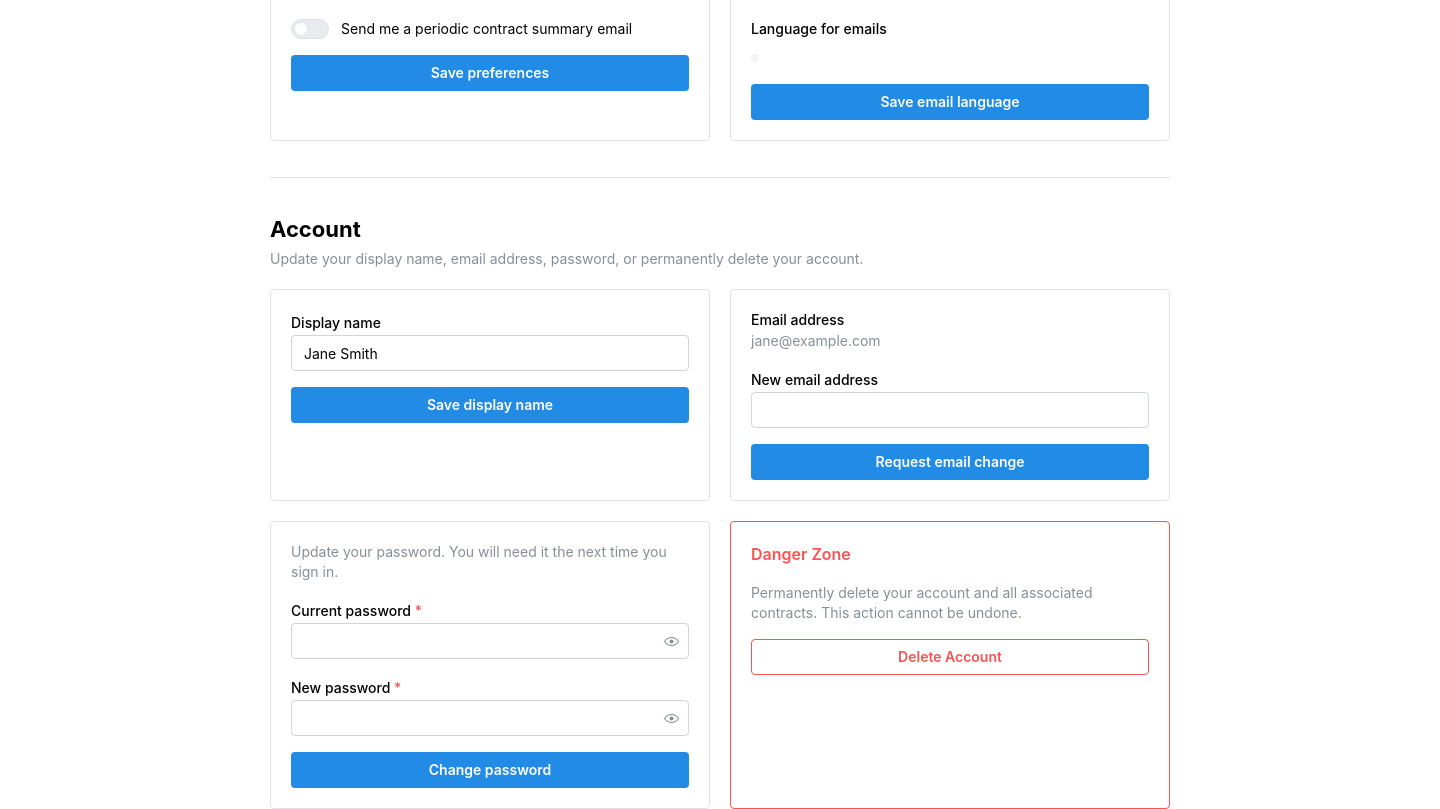
Test: AccountSettings – Password section › shows a success toast after changing password
The image size is (1440, 809).
(page scrolled)
Type "old-pass" into the password field labelled "Current password *" at (490,641), box [292,624,688,658]
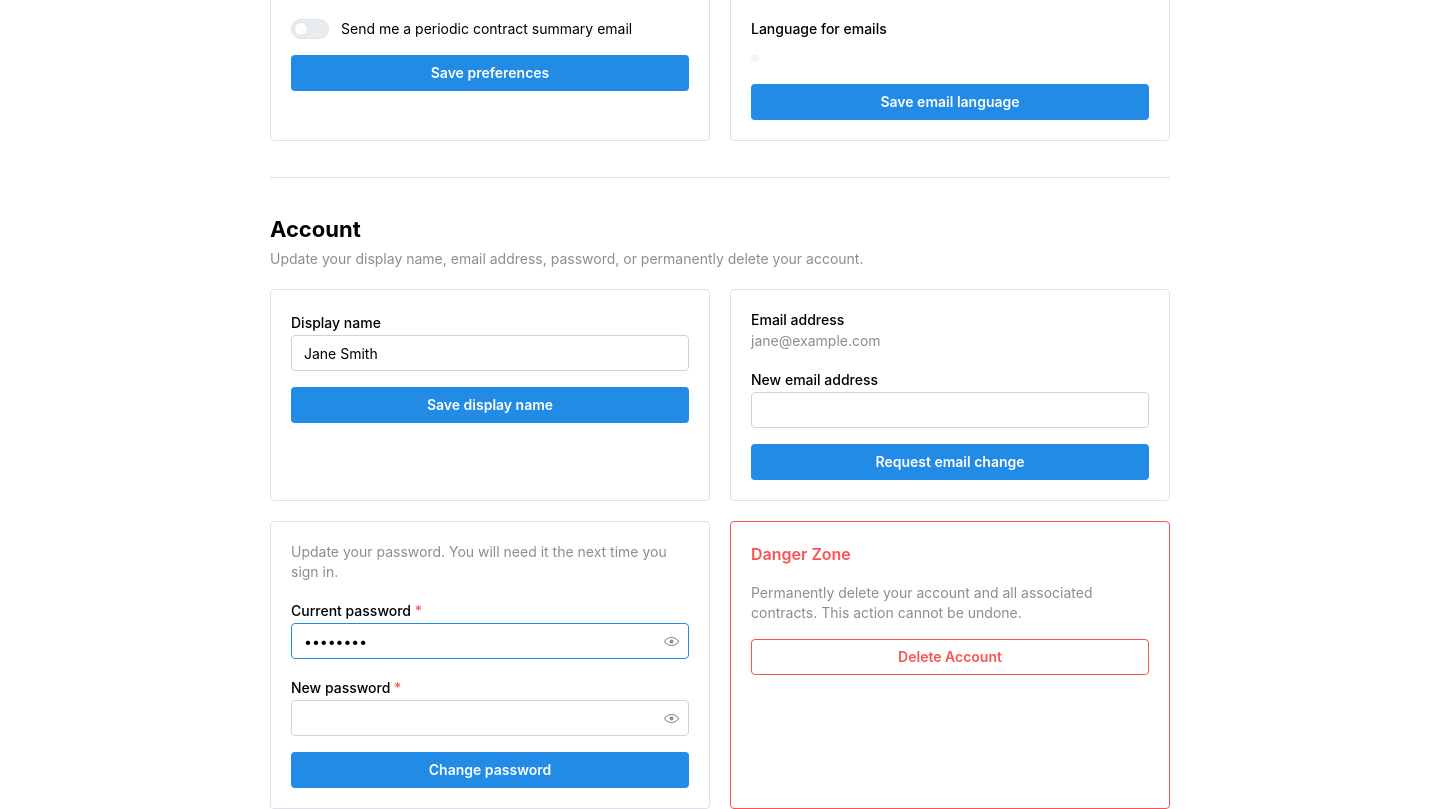
Type "new-pass-long" into the password field labelled "New password *" at (490,718), box [292,701,688,735]
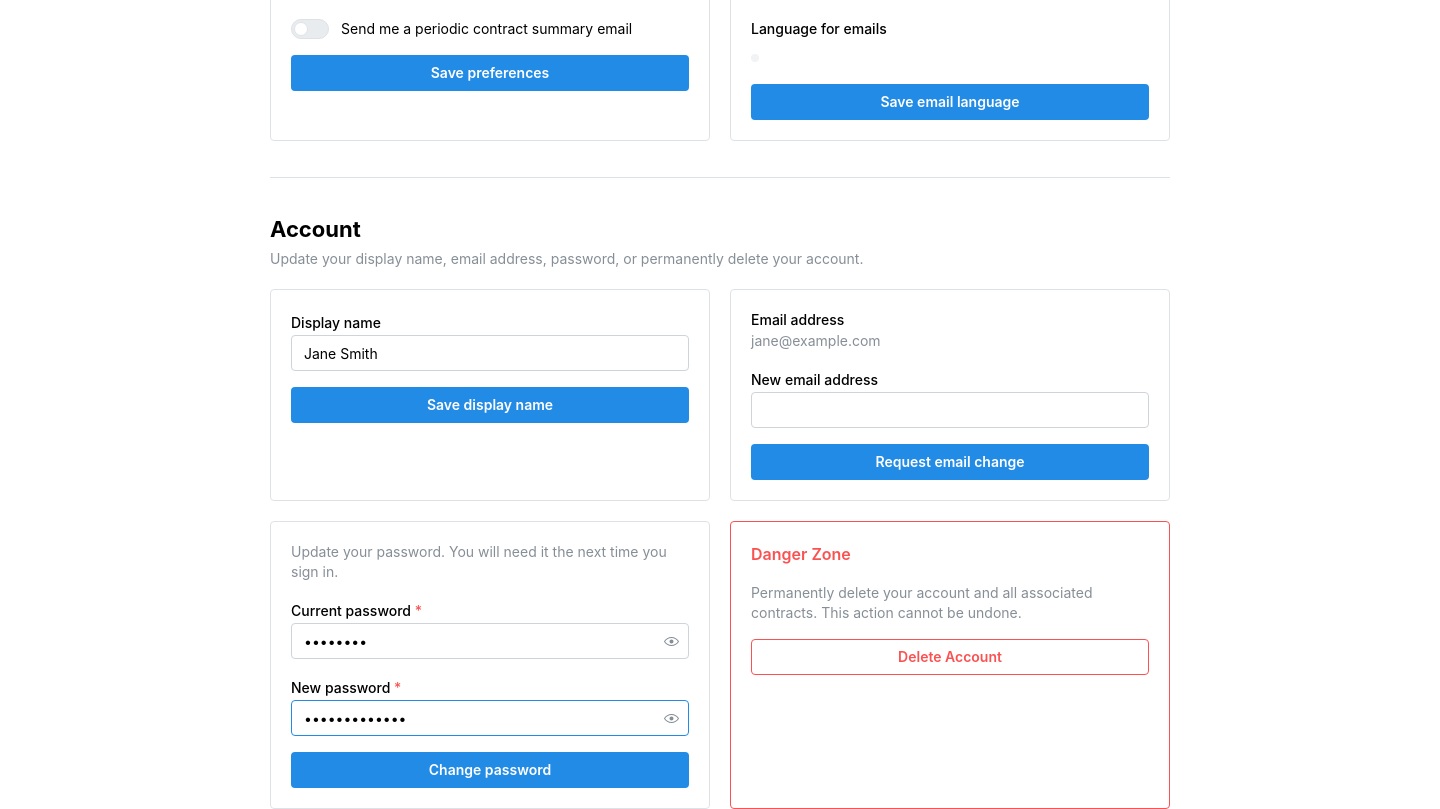
Click the button "Change password" at (490,770), box [291,752,689,788]
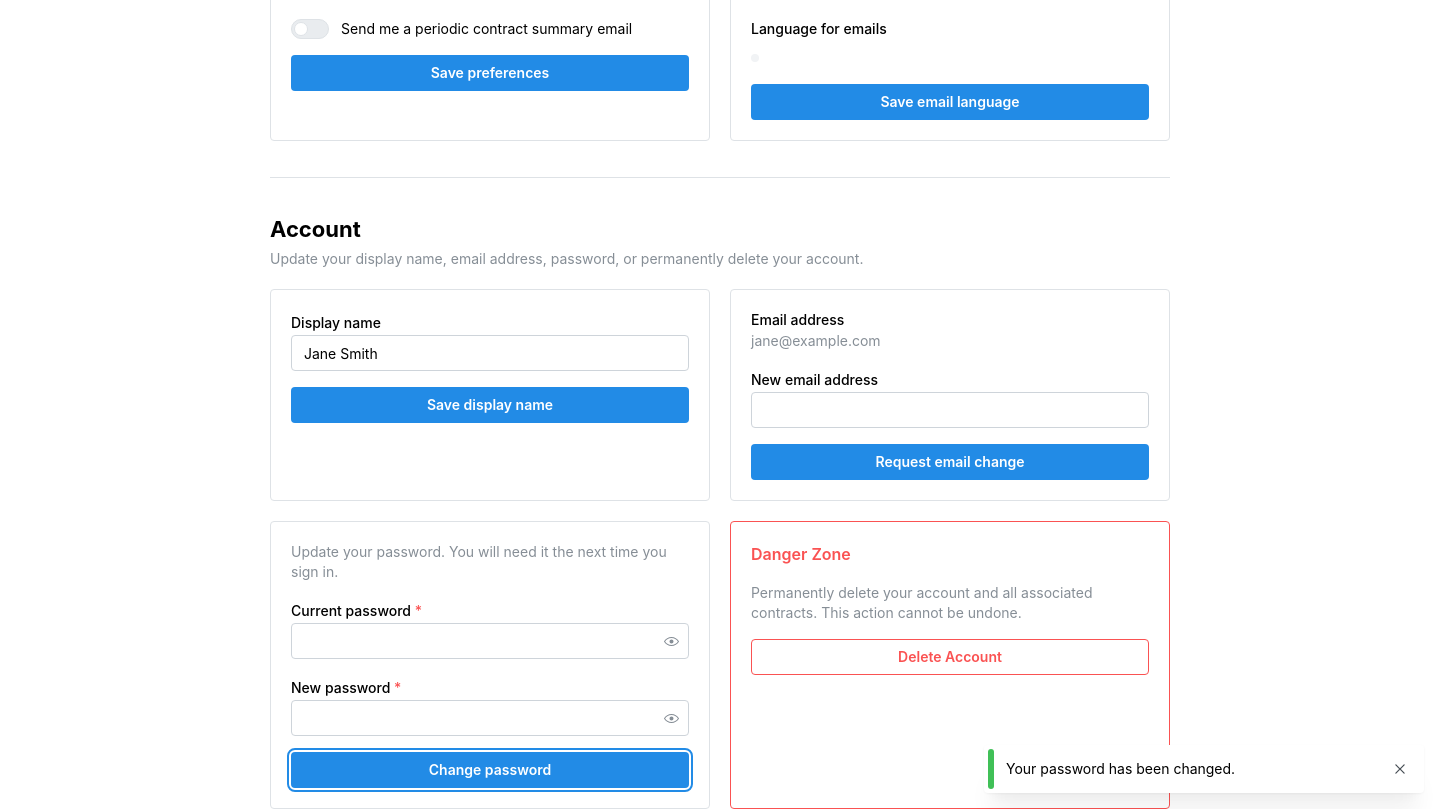
Expected: the text "Your password has been changed." is shown, [1006,760,1235,777]
